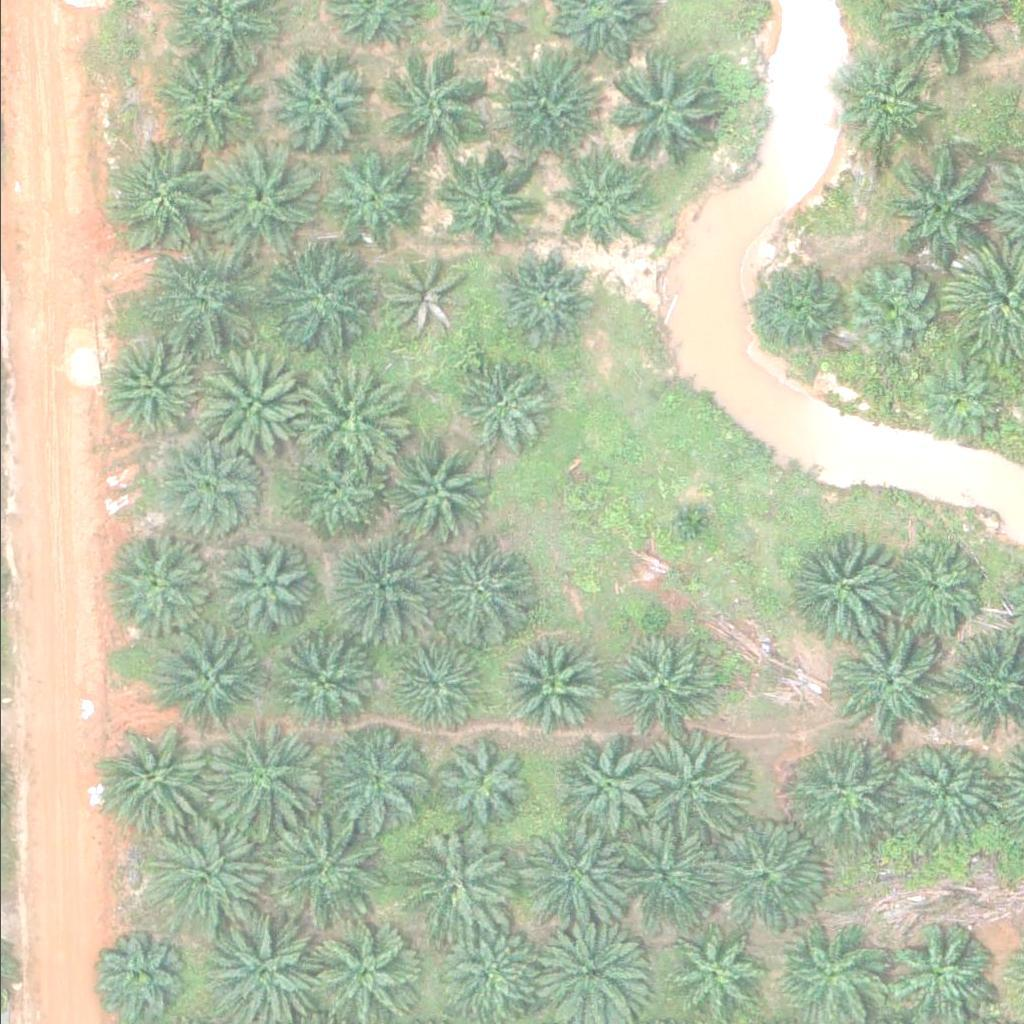Kelapa_Sawit: (519, 824, 633, 937), (142, 818, 256, 931), (202, 715, 316, 828), (892, 741, 1006, 854), (101, 531, 215, 644), (149, 618, 263, 731), (402, 829, 515, 942), (781, 529, 894, 642), (323, 530, 436, 643), (102, 142, 215, 255), (612, 55, 725, 168), (318, 722, 432, 834), (380, 54, 494, 166), (698, 822, 811, 934), (269, 811, 382, 923), (92, 727, 205, 839), (790, 733, 903, 845), (642, 733, 755, 845), (833, 621, 946, 733), (379, 435, 492, 547), (296, 358, 409, 470), (198, 345, 311, 457), (143, 247, 256, 359), (264, 243, 377, 355), (888, 147, 1001, 259), (202, 141, 315, 253), (145, 42, 258, 154), (484, 45, 597, 157), (661, 923, 762, 1023), (426, 734, 527, 834), (556, 735, 657, 835), (883, 536, 984, 636), (205, 536, 306, 636), (161, 437, 262, 537), (450, 351, 551, 451), (430, 147, 531, 247), (268, 49, 369, 149), (614, 825, 714, 925), (606, 636, 706, 736), (497, 637, 597, 737), (381, 637, 481, 737), (265, 633, 365, 733), (421, 539, 521, 639), (99, 336, 199, 436), (749, 257, 849, 357), (496, 248, 596, 348), (327, 147, 427, 247), (828, 54, 928, 154), (290, 447, 378, 535), (854, 261, 942, 349), (919, 358, 1007, 446), (88, 930, 176, 1017), (377, 257, 465, 344), (547, 159, 635, 246), (668, 494, 719, 544)
